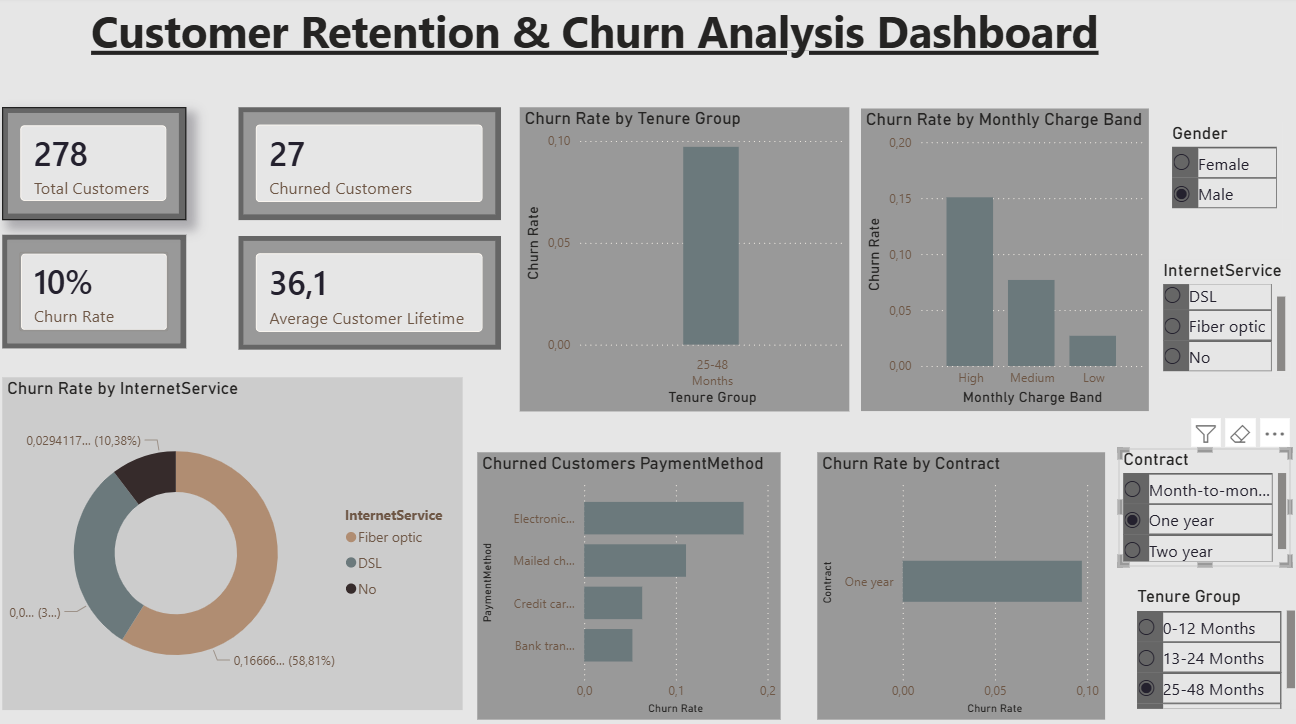

What the dashboard file says about the page in this screenshot:
{"tool":"powerbi","page":{"name":"Analysis","canvas":[1280,720],"ordinal":0},"visuals":[{"type":"clusteredBarChart","fields":{"Category":["WA_Fn-UseC_-Telco-Customer-Chur.Contract"],"Y":["WA_Fn-UseC_-Telco-Customer-Chur.Churn Rate"]},"box":[808.3,446.3,281.3,261.7],"z":0},{"type":"barChart","title":"Churned Customers PaymentMethod","fields":{"Y":["WA_Fn-UseC_-Telco-Customer-Chur.Churn Rate"],"Category":["WA_Fn-UseC_-Telco-Customer-Chur.PaymentMethod"]},"box":[475.7,446.3,297.1,261.7],"z":1000},{"type":"clusteredColumnChart","fields":{"Category":["WA_Fn-UseC_-Telco-Customer-Chur.Tenure Group"],"Y":["WA_Fn-UseC_-Telco-Customer-Chur.Churn Rate"]},"box":[517.8,108.9,322.8,297.2],"z":2000},{"type":"columnChart","fields":{"Y":["WA_Fn-UseC_-Telco-Customer-Chur.Churn Rate"],"Category":["WA_Fn-UseC_-Telco-Customer-Chur.Monthly Charge Band"]},"box":[851.1,110.1,281.3,295.9],"z":3000},{"type":"donutChart","fields":{"Y":["WA_Fn-UseC_-Telco-Customer-Chur.Churn Rate"],"Category":["WA_Fn-UseC_-Telco-Customer-Chur.InternetService"]},"box":[11,373,450,325.3],"z":4000},{"type":"listSlicer","title":"Gender","fields":{"Values":["WA_Fn-UseC_-Telco-Customer-Chur.gender"]},"box":[1151.2,123.7,113,108.9],"z":5000},{"type":"listSlicer","fields":{"Values":["WA_Fn-UseC_-Telco-Customer-Chur.InternetService"]},"box":[1142.1,258,129.6,114.9],"z":6000},{"type":"listSlicer","fields":{"Values":["WA_Fn-UseC_-Telco-Customer-Chur.Contract"]},"box":[1102.8,442.4,169.4,115.7],"z":7000},{"type":"listSlicer","fields":{"Values":["WA_Fn-UseC_-Telco-Customer-Chur.Tenure Group"]},"box":[1116.2,576.9,164.1,121],"z":8000},{"type":"cardVisual","fields":{"Data":["WA_Fn-UseC_-Telco-Customer-Chur.Churn Rate"]},"box":[11,233.6,179.8,111.3],"z":9000},{"type":"cardVisual","fields":{"Data":["WA_Fn-UseC_-Telco-Customer-Chur.Total Customers"]},"box":[11,108.8,179.8,110.1],"z":10000},{"type":"cardVisual","fields":{"Data":["WA_Fn-UseC_-Telco-Customer-Chur.Churned Customers"]},"box":[242.1,108.8,256.8,110.1],"z":11000},{"type":"cardVisual","fields":{"Data":["WA_Fn-UseC_-Telco-Customer-Chur.Average Customer Lifetime"]},"box":[242.1,234.8,256.8,111.3],"z":12000},{"type":"textbox","box":[92.9,0,1105.4,84.4],"z":13000}]}

Visuals, with their boxes in screenshot pixels (x1, y1, x2, y2), scaled from the page's 1280x720 canvas onto the 1296x724 screenshot:
clusteredBarChart - WA_Fn-UseC_-Telco-Customer-Chur.Contract x WA_Fn-UseC_-Telco-Customer-Chur.Churn Rate: bbox=[818, 449, 1103, 712]
"Churned Customers PaymentMethod" barChart: bbox=[482, 449, 782, 712]
clusteredColumnChart - WA_Fn-UseC_-Telco-Customer-Chur.Tenure Group x WA_Fn-UseC_-Telco-Customer-Chur.Churn Rate: bbox=[524, 110, 851, 408]
columnChart - WA_Fn-UseC_-Telco-Customer-Chur.Churn Rate x WA_Fn-UseC_-Telco-Customer-Chur.Monthly Charge Band: bbox=[862, 111, 1147, 408]
donutChart - WA_Fn-UseC_-Telco-Customer-Chur.Churn Rate x WA_Fn-UseC_-Telco-Customer-Chur.InternetService: bbox=[11, 375, 467, 702]
"Gender" listSlicer: bbox=[1166, 124, 1280, 234]
listSlicer - WA_Fn-UseC_-Telco-Customer-Chur.InternetService: bbox=[1156, 259, 1288, 375]
listSlicer - WA_Fn-UseC_-Telco-Customer-Chur.Contract: bbox=[1117, 445, 1288, 561]
listSlicer - WA_Fn-UseC_-Telco-Customer-Chur.Tenure Group: bbox=[1130, 580, 1295, 702]
cardVisual - WA_Fn-UseC_-Telco-Customer-Chur.Churn Rate: bbox=[11, 235, 193, 347]
cardVisual - WA_Fn-UseC_-Telco-Customer-Chur.Total Customers: bbox=[11, 109, 193, 220]
cardVisual - WA_Fn-UseC_-Telco-Customer-Chur.Churned Customers: bbox=[245, 109, 505, 220]
cardVisual - WA_Fn-UseC_-Telco-Customer-Chur.Average Customer Lifetime: bbox=[245, 236, 505, 348]
textbox: bbox=[94, 0, 1213, 85]
